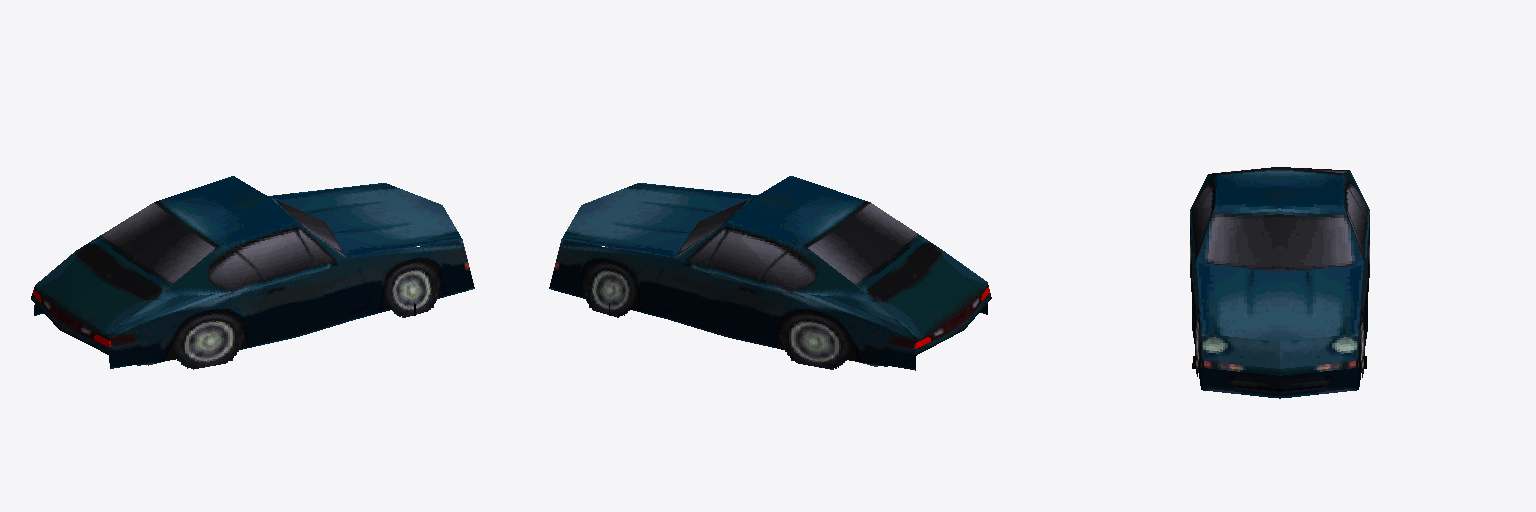
3 views of the same model, side by side, from view 1: azimuth 30°, elevation 25°; view 2: azimuth 150°, elevation 25°; view 3: azimuth 270°, elevation 25° (orthographic).
Size of the model in its own units: 567 by 161 by 224.
Materials: 1 (1 with a texture image).